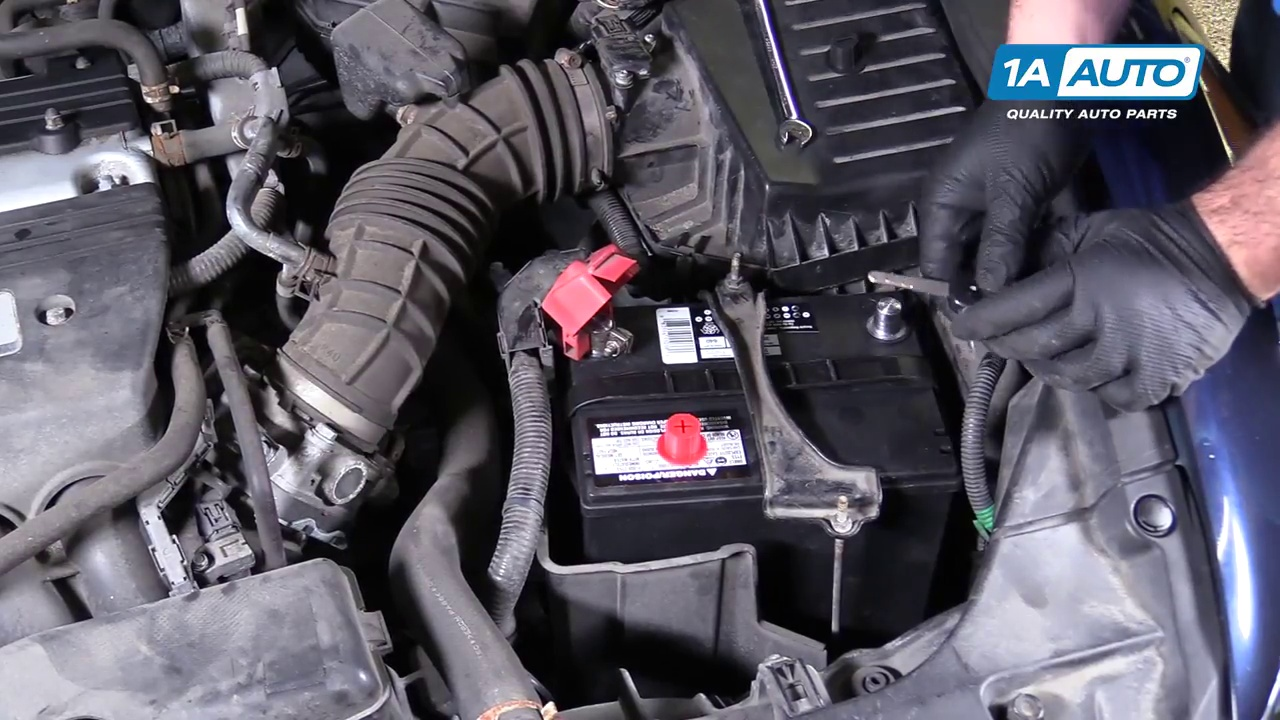battery: (556, 281, 954, 489)
neg_disconnected: (841, 263, 945, 368)
pos_connected: (532, 253, 652, 379)
